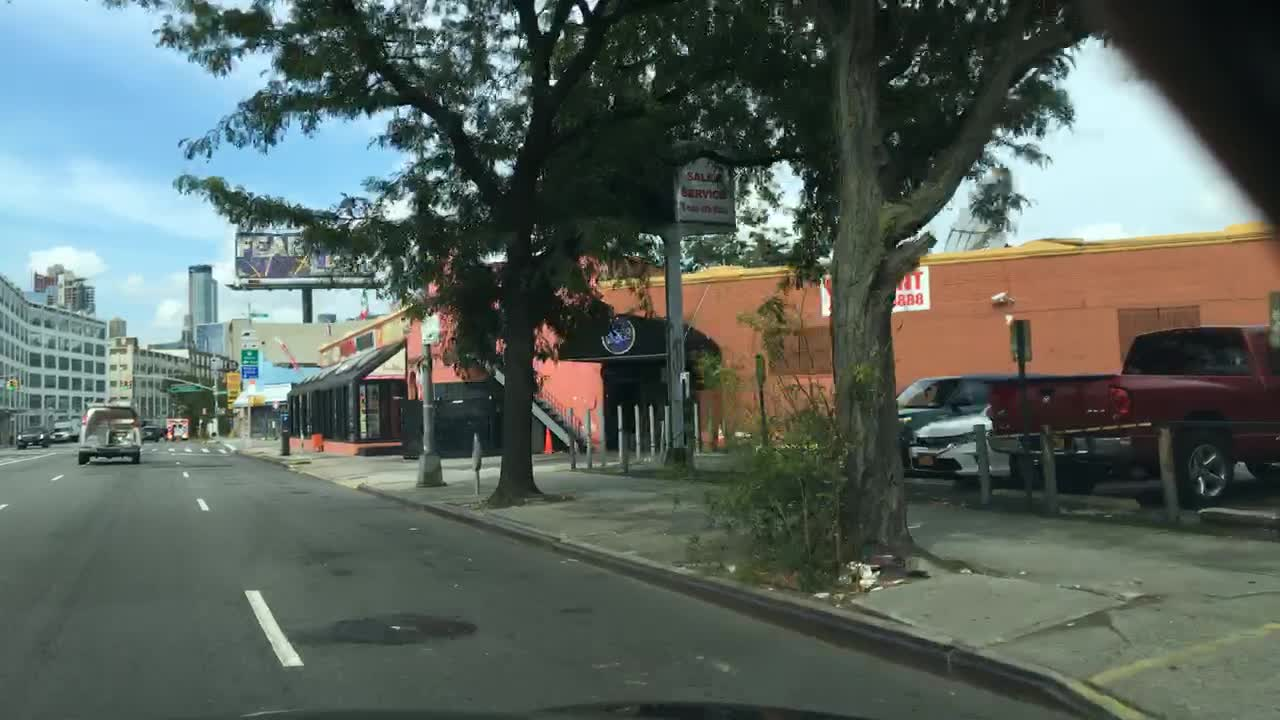car: (910, 401, 1013, 485), (896, 375, 968, 443), (77, 404, 140, 464), (17, 425, 50, 450), (137, 425, 159, 441)
traffic light: (252, 393, 264, 405), (4, 378, 16, 389)
traffic sign: (1010, 320, 1028, 363), (420, 311, 439, 345), (242, 341, 257, 380), (752, 353, 766, 380), (170, 383, 200, 392), (239, 327, 257, 341), (679, 372, 688, 399), (248, 311, 267, 320)
truck: (986, 326, 1278, 512), (51, 420, 81, 441), (164, 417, 188, 440)
